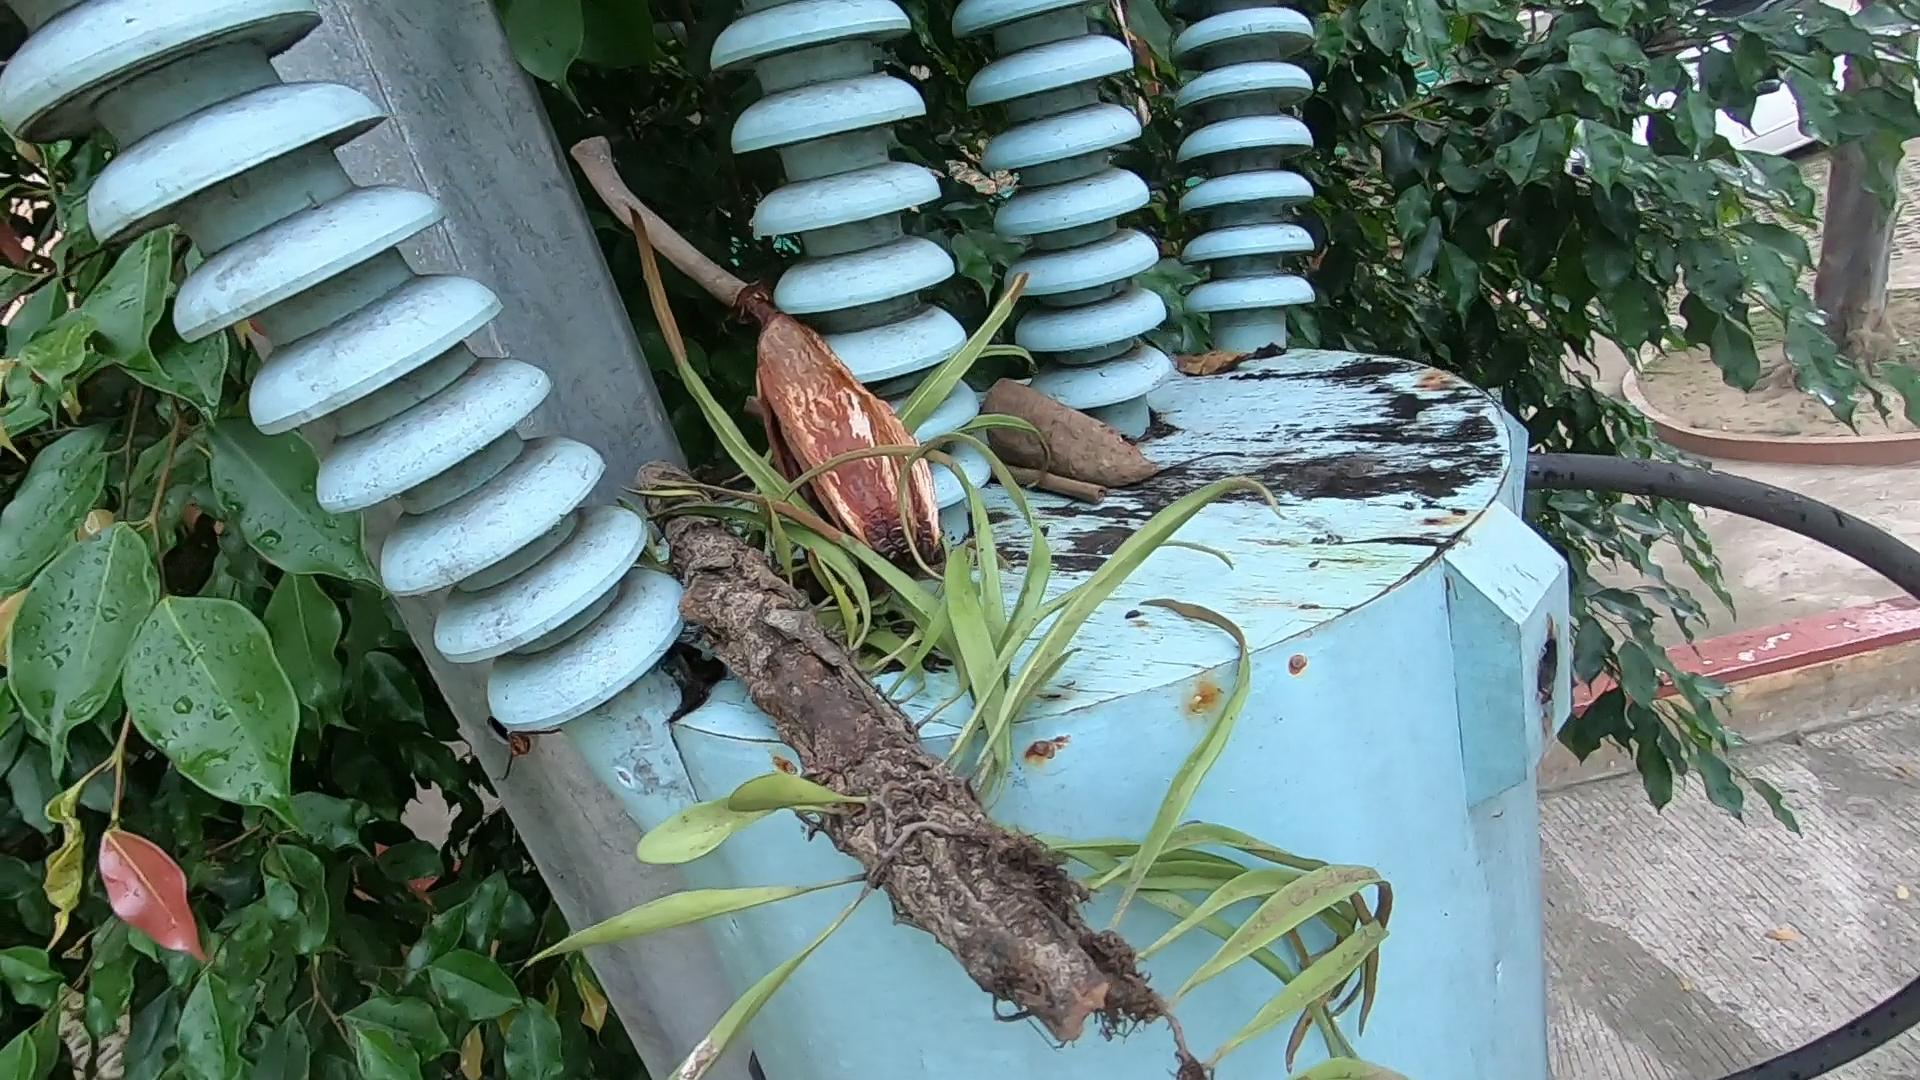branch with leaves: (644, 465, 1137, 1034)
leaf: (1171, 332, 1302, 386)
mahogany fruit: (704, 298, 945, 495)
tree branch: (571, 117, 756, 316), (985, 447, 1113, 512)
